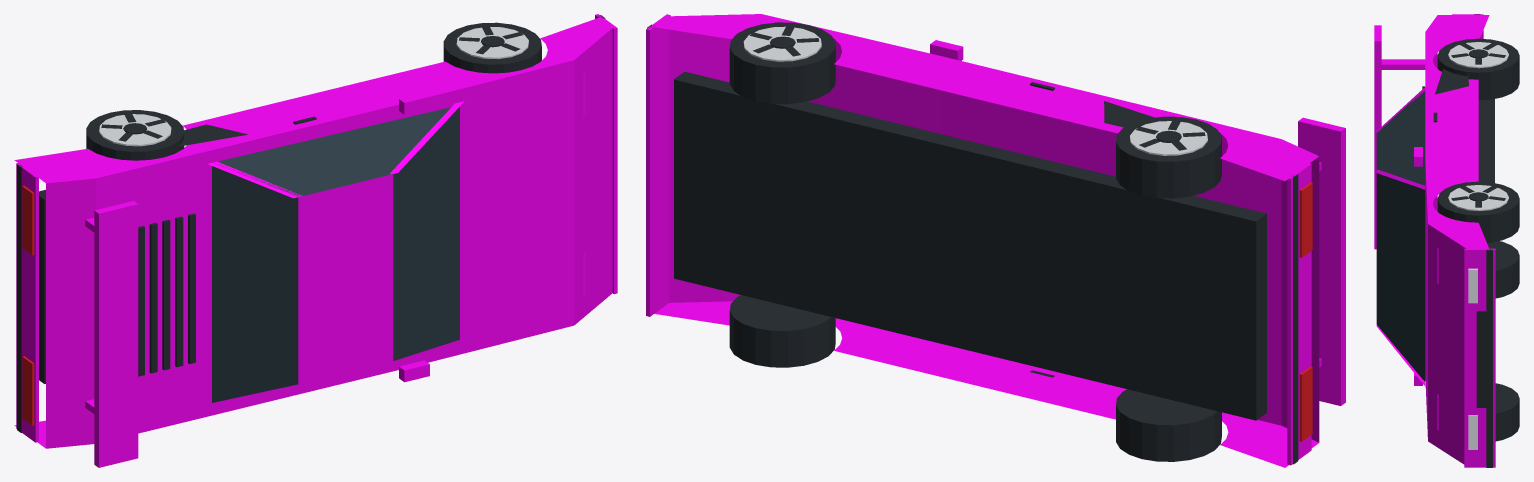
The model's file is sports-wedge.glb.
The picture shows the model from 3 angles, left to right: view 1: azimuth 30°, elevation 25°; view 2: azimuth 150°, elevation 25°; view 3: azimuth 270°, elevation 25°; orthographic projection. The views are drawn at different scales.
Visible parts, largest first — view 1: sports-wedge; view 2: sports-wedge; view 3: sports-wedge.
Boxes of the visible parts, x1,y1,x2,y2 form: sports-wedge: (14, 14, 617, 467); sports-wedge: (646, 14, 1345, 467); sports-wedge: (1374, 14, 1519, 467).
Size of the model in its own units: 4.14 by 1.89 by 1.07.
